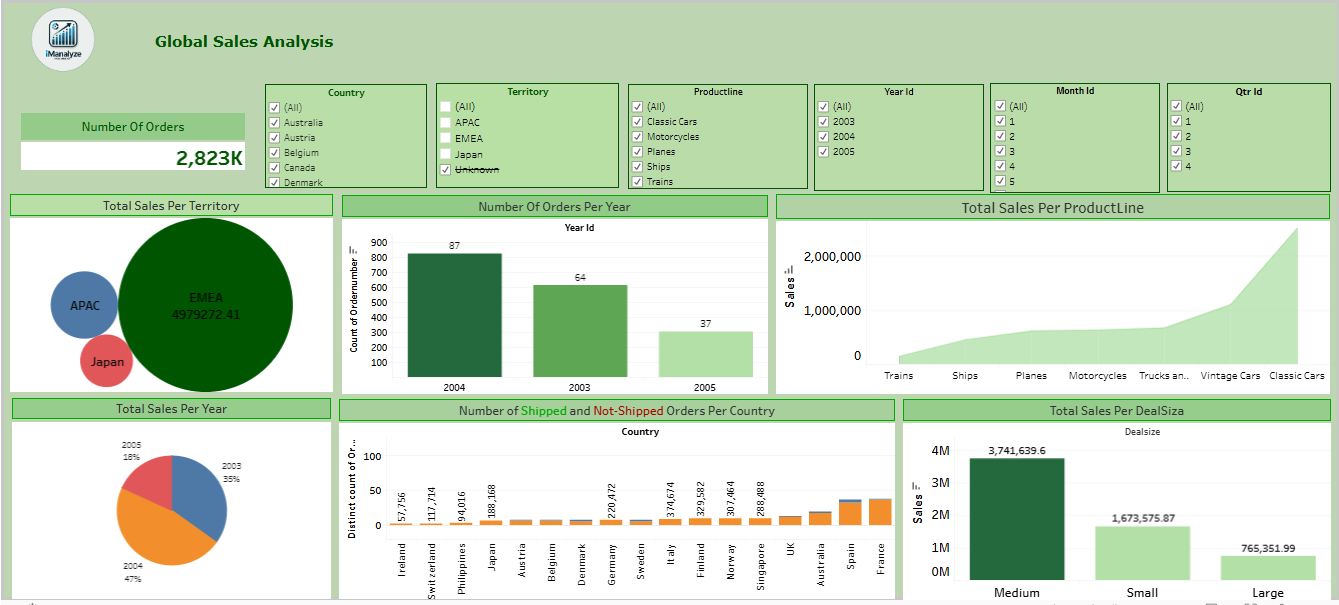

This screenshot's page, from the dashboard's own definition file:
{"tool":"tableau","page":{"name":"Dashboard 1","canvas":[1000,1000],"units":"permille","ordinal":0},"visuals":[{"type":"image","param":"Image/نص_فقرتك-removebg-preview.png","box":[21.2,5,109.5,125]},{"type":"text","box":[100.5,31.2,401.8,73.8]},{"type":"filter","title":"TotalSalesByProductLine","param":"[federated.168tenv17gvutj198o90n0uxze3q].[none:QTR_ID:ok]","box":[870.9,137.5,122.4,182.5]},{"type":"filter","title":"SalesPerTerritory","param":"[federated.168tenv17gvutj198o90n0uxze3q].[none:TERRITORY:nk]","box":[324.8,138.8,136.7,175]},{"type":"filter","title":"TotalSalesByProductLine","param":"[federated.168tenv17gvutj198o90n0uxze3q].[none:MONTH_ID:ok]","box":[738.7,138.8,126.9,182.5]},{"type":"filter","title":"NumberOfOrdersPerCountry","param":"[federated.168tenv17gvutj198o90n0uxze3q].[none:COUNTRY:nk]","box":[197.1,140,120.9,172.5]},{"type":"filter","title":"TotalSalesByProductLine","param":"[federated.168tenv17gvutj198o90n0uxze3q].[none:PRODUCTLINE:nk]","box":[468.3,140,134.4,175]},{"type":"filter","title":"TotalSalesByProductLine","param":"[federated.168tenv17gvutj198o90n0uxze3q].[none:YEAR_ID:ok]","box":[607.2,140,126.9,178.8]},{"type":"worksheet","title":"TotalNumnerOfOrders","mark":"Automatic","box":[24.2,163.8,166.9,115]},{"type":"worksheet","title":"SalesPerTerritory","mark":"Circle","box":[6.8,323.8,240.9,330]},{"type":"worksheet","title":"TotalSalesByProductLine","mark":"Area","rows":["SALES"],"cols":["PRODUCTLINE"],"box":[578.6,323.8,413.9,332.5]},{"type":"worksheet","title":"NUmberOfOrdersPerYear","mark":"Bar","rows":["ORDERNUMBER"],"cols":["YEAR_ID"],"box":[254.5,325,318,331.2]},{"type":"worksheet","title":"TotalSalesPerYear","mark":"Pie","box":[8.3,662.5,237.9,335]},{"type":"worksheet","title":"NumberOfOrdersPerCountry","mark":"Automatic","rows":["ORDERNUMBER"],"cols":["COUNTRY"],"box":[252.3,665,415.4,333.8]},{"type":"worksheet","title":"SalesPerDealSize","mark":"Automatic","rows":["SALES"],"cols":["DEALSIZE"],"box":[673.7,665,319.5,335]}]}

Visuals, with their boxes on the dashboard's canvas, which has no fixed pixel size, in thousandths of its width and height (x1, y1, x2, y2). These are canvas units, not pixel positions in the 1339x605 screenshot, which may show the page scaled, cropped or inside an application window:
image: crop(21, 5, 131, 130)
text: crop(100, 31, 502, 105)
"TotalSalesByProductLine" filter: crop(871, 138, 993, 320)
"SalesPerTerritory" filter: crop(325, 139, 462, 314)
"TotalSalesByProductLine" filter: crop(739, 139, 866, 321)
"NumberOfOrdersPerCountry" filter: crop(197, 140, 318, 312)
"TotalSalesByProductLine" filter: crop(468, 140, 603, 315)
"TotalSalesByProductLine" filter: crop(607, 140, 734, 319)
"TotalNumnerOfOrders" worksheet: crop(24, 164, 191, 279)
"SalesPerTerritory" worksheet (Circle marks): crop(7, 324, 248, 654)
"TotalSalesByProductLine" worksheet (Area marks): crop(579, 324, 992, 656)
"NUmberOfOrdersPerYear" worksheet (Bar marks): crop(254, 325, 572, 656)
"TotalSalesPerYear" worksheet (Pie marks): crop(8, 662, 246, 998)
"NumberOfOrdersPerCountry" worksheet: crop(252, 665, 668, 999)
"SalesPerDealSize" worksheet: crop(674, 665, 993, 1000)
